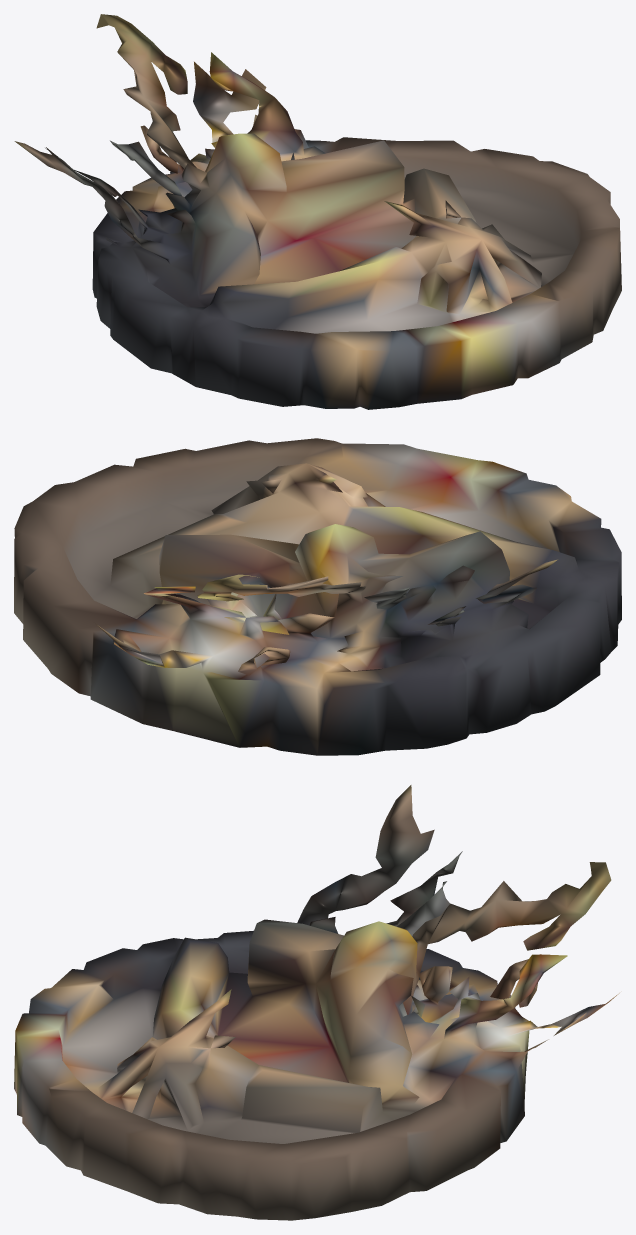
File: g_ates.glb
The picture shows the model from 3 angles, top to bottom: view 1: azimuth 30°, elevation 25°; view 2: azimuth 150°, elevation 25°; view 3: azimuth 270°, elevation 25°; orthographic projection. The views are drawn at different scales.
Visible parts, largest first — view 1: geometry_0; view 2: geometry_0; view 3: geometry_0.
Part boxes in pixels (<box>): geometry_0: <box>14,14,621,409</box>; geometry_0: <box>14,438,621,755</box>; geometry_0: <box>14,785,619,1220</box>.
Bounding box in the file's own units: 2.87 × 1 × 2.86.
